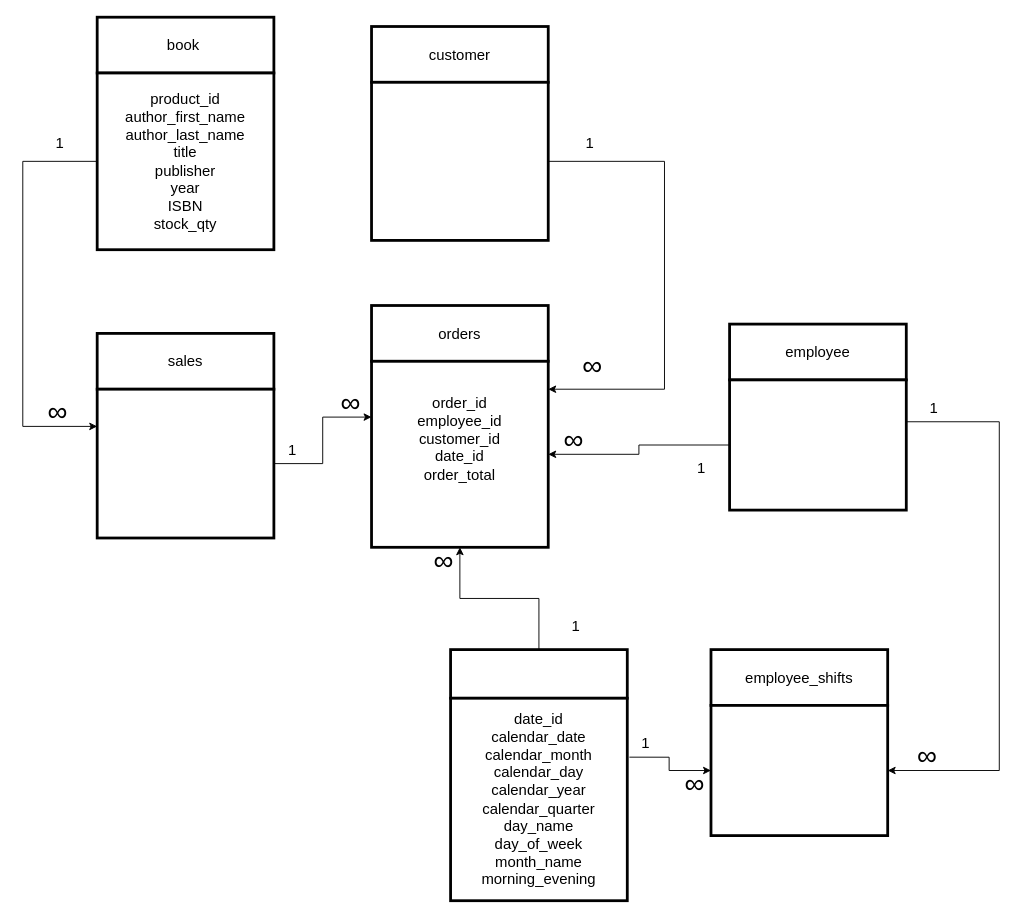
The diagram is 1023 pixels wide and 918 high, and some of its shapes have lost their labels. The box of each missing label's shape, as (x1, y1, x2, y2) in pixels:
customer_id first_name last_name address phone_number email: (370, 80, 549, 241)
Date_Table: (449, 648, 628, 699)
employee_id first_name last_name position full_time_flag: (728, 378, 907, 511)
sale_id order_id product_id product_name cost_per_item qty_purchased: (95, 387, 275, 539)
shift_id employee_id date_id shift_type: (709, 704, 889, 837)
